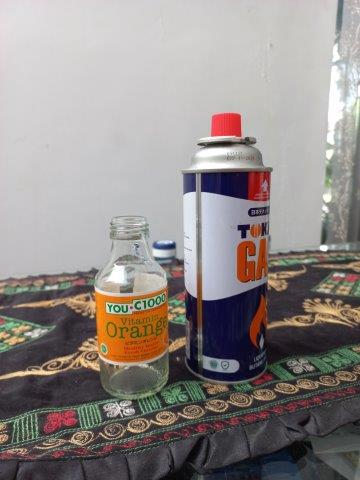botolkaca: (95, 216, 169, 400)
kaleng: (182, 114, 273, 383)
